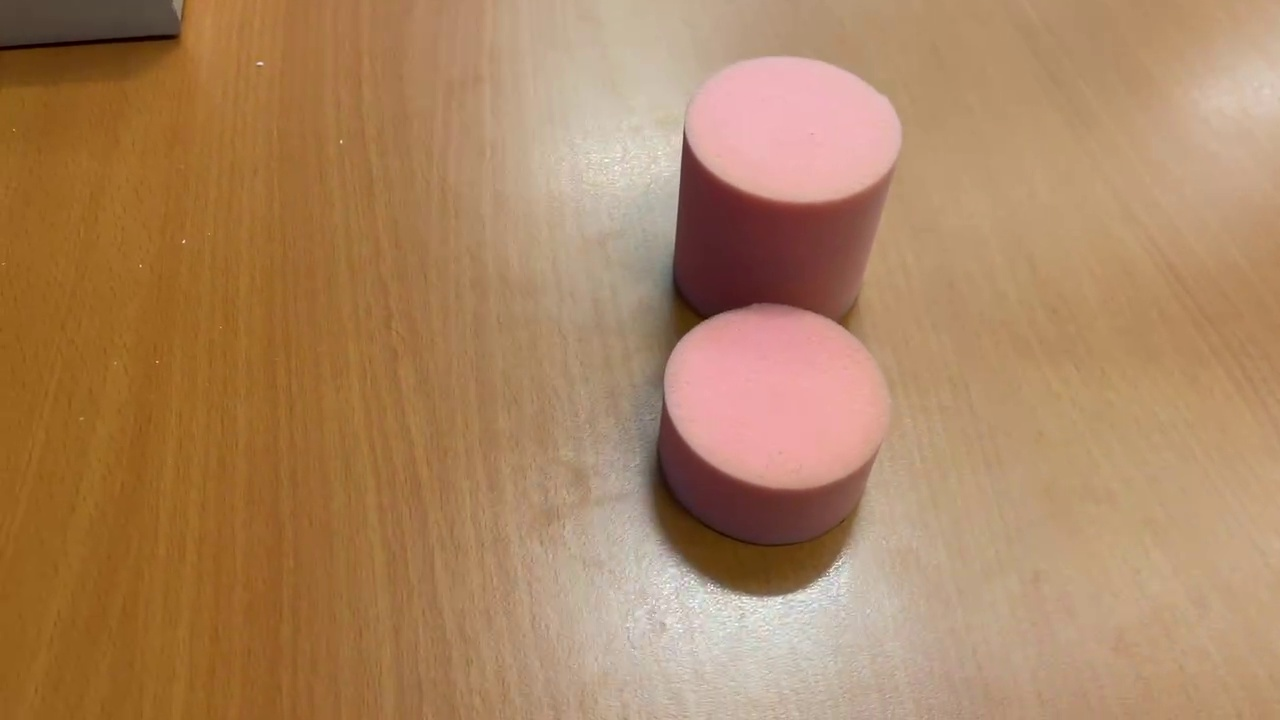Clyinder_short: (645, 296, 900, 550)
Cylinder: (669, 50, 908, 340)
